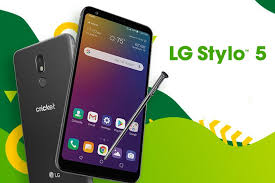lg: (52, 2, 154, 182)
